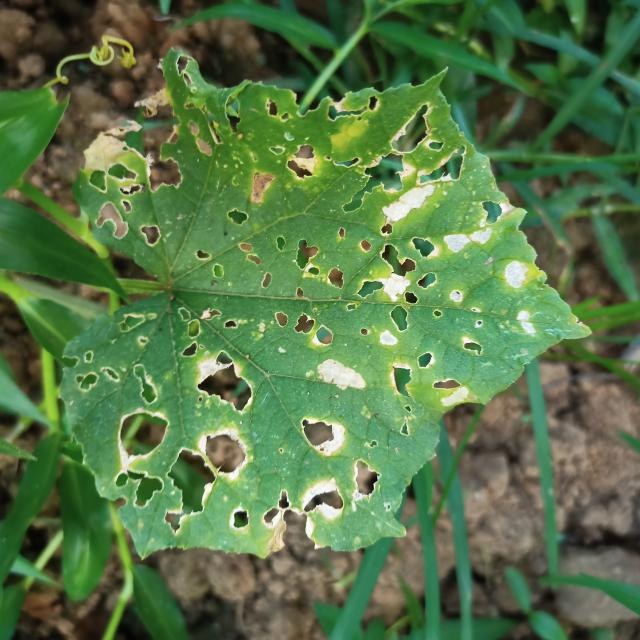disease_cucumber: (77, 79, 537, 545)
